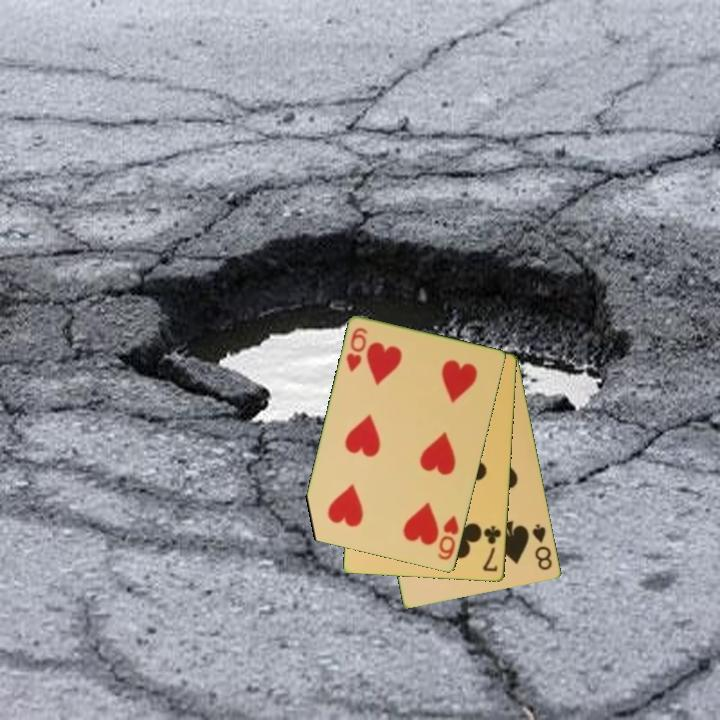6h: (434, 512, 462, 563), (343, 324, 370, 375)
7c: (480, 522, 504, 575)
8s: (529, 521, 555, 573)
